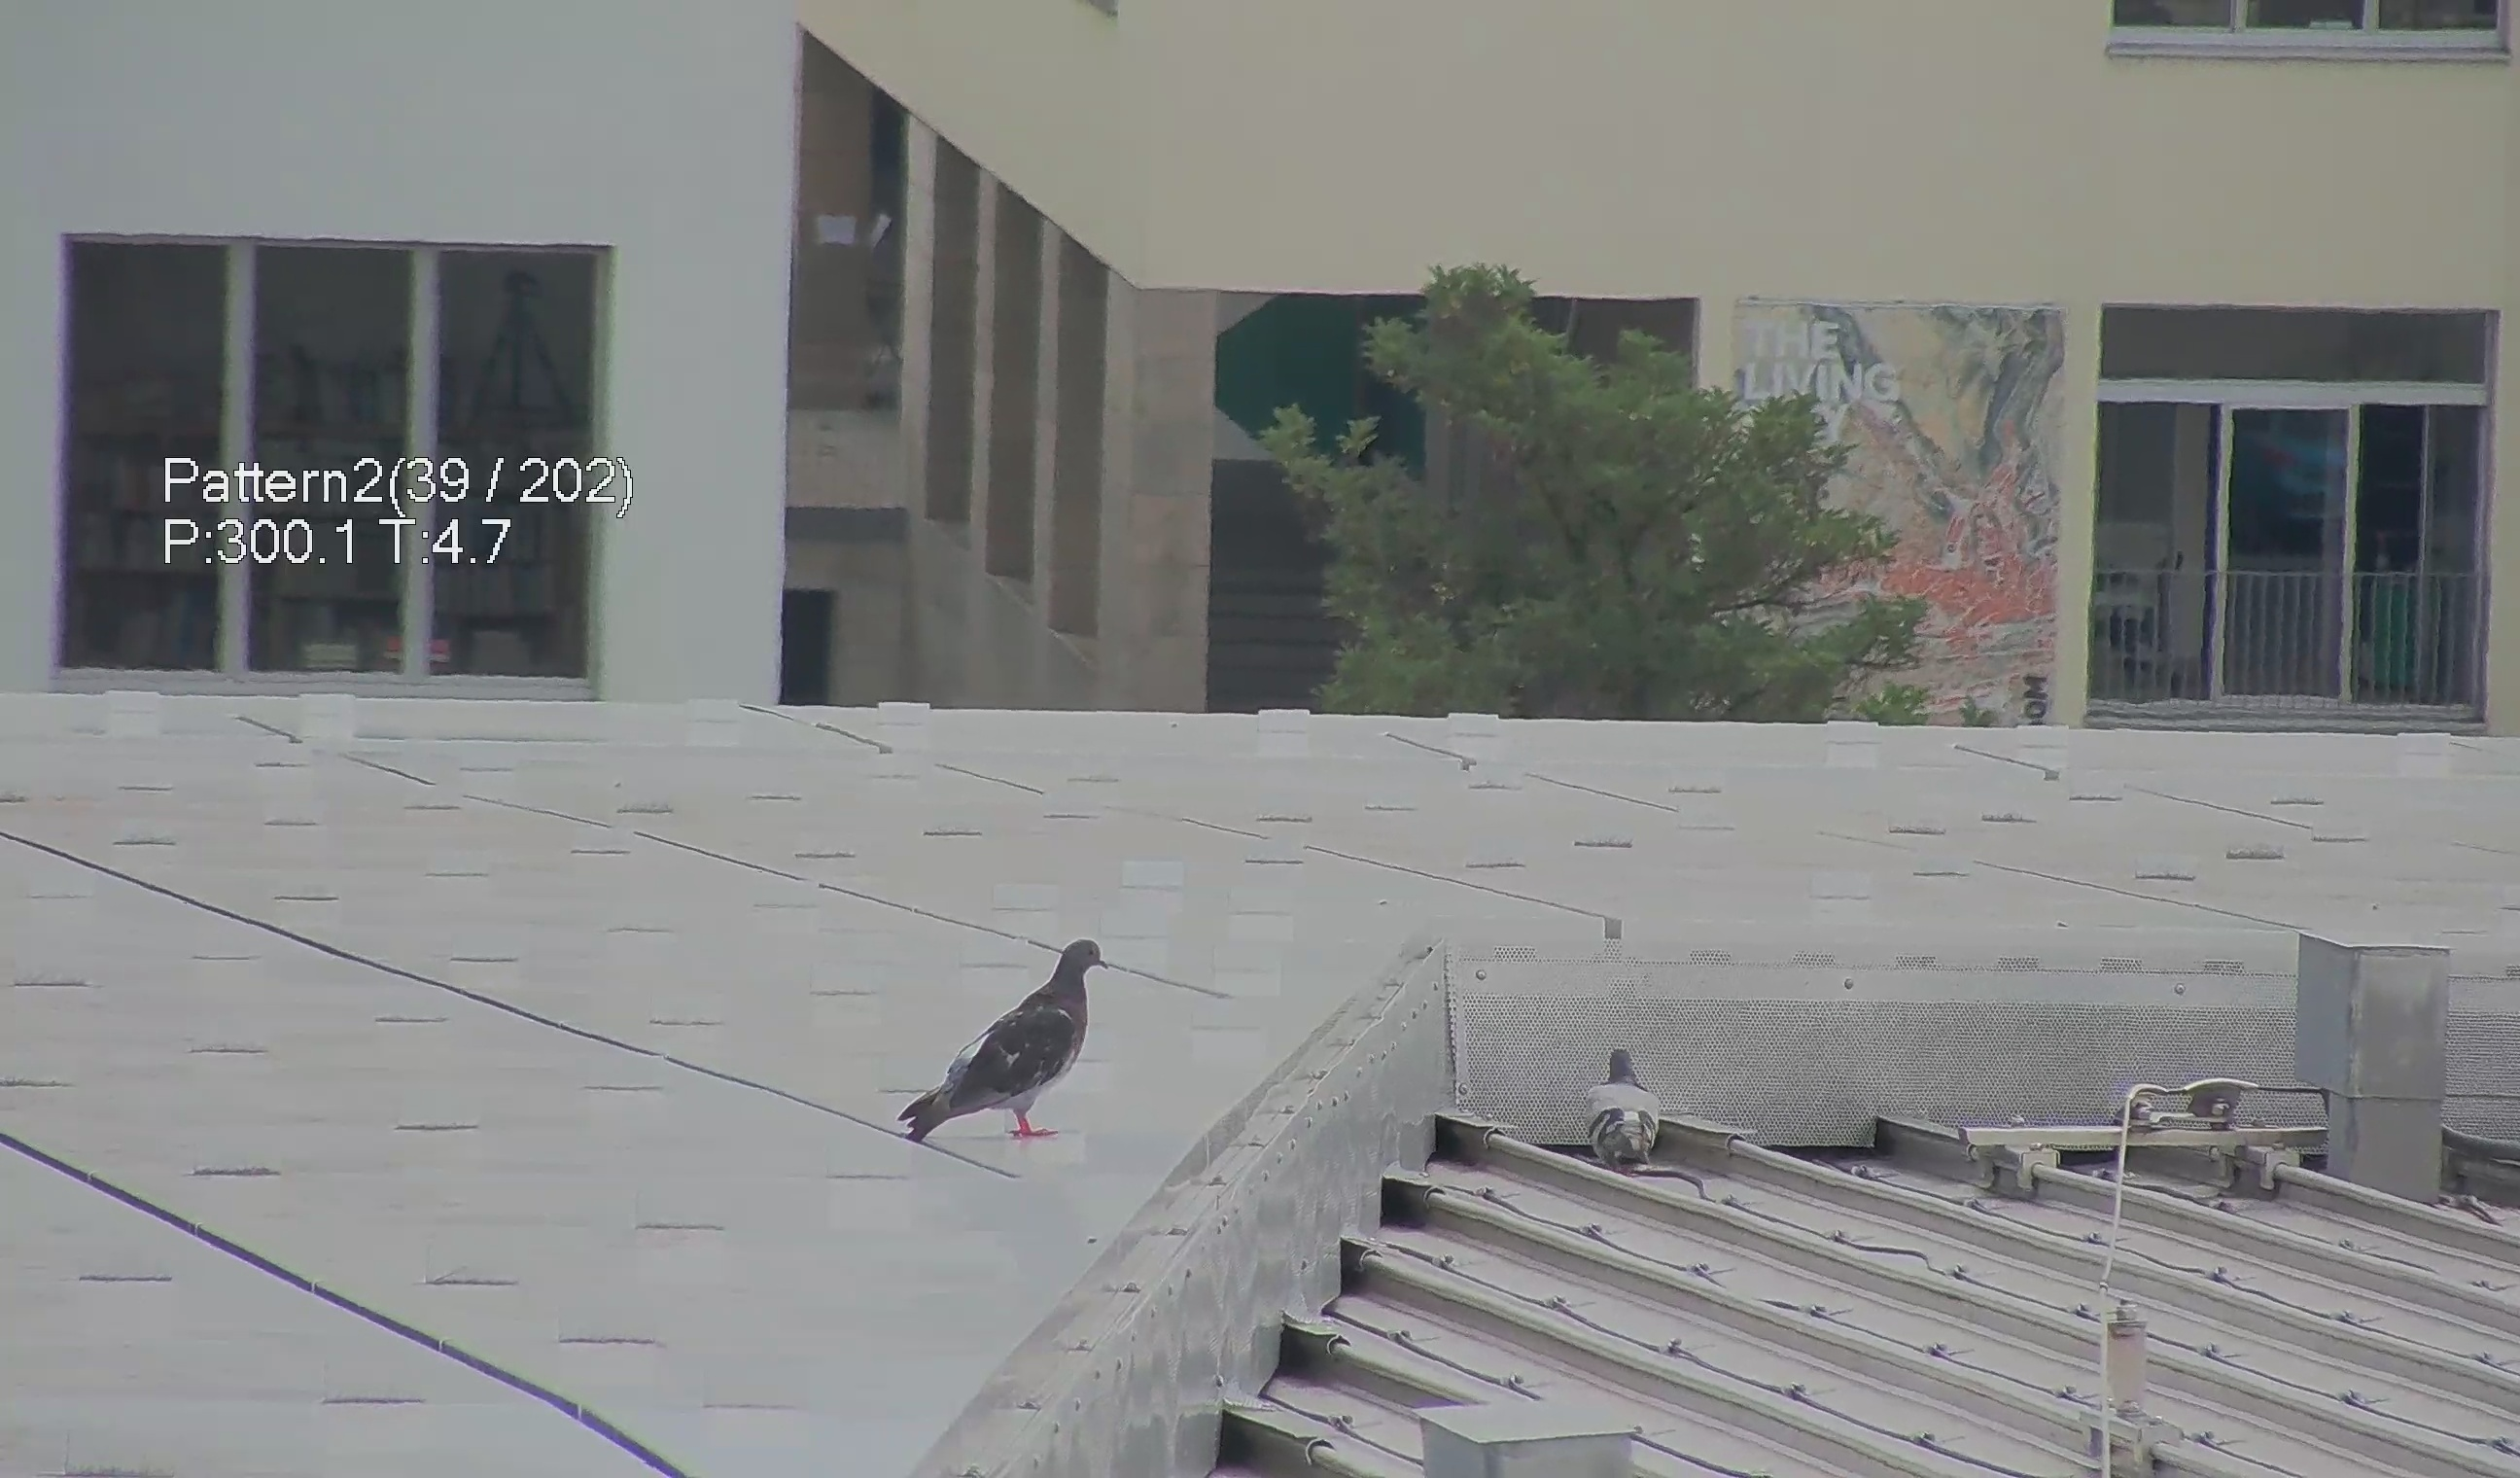Pigeon: (897, 934, 1143, 1156), (1565, 1047, 1671, 1179)
